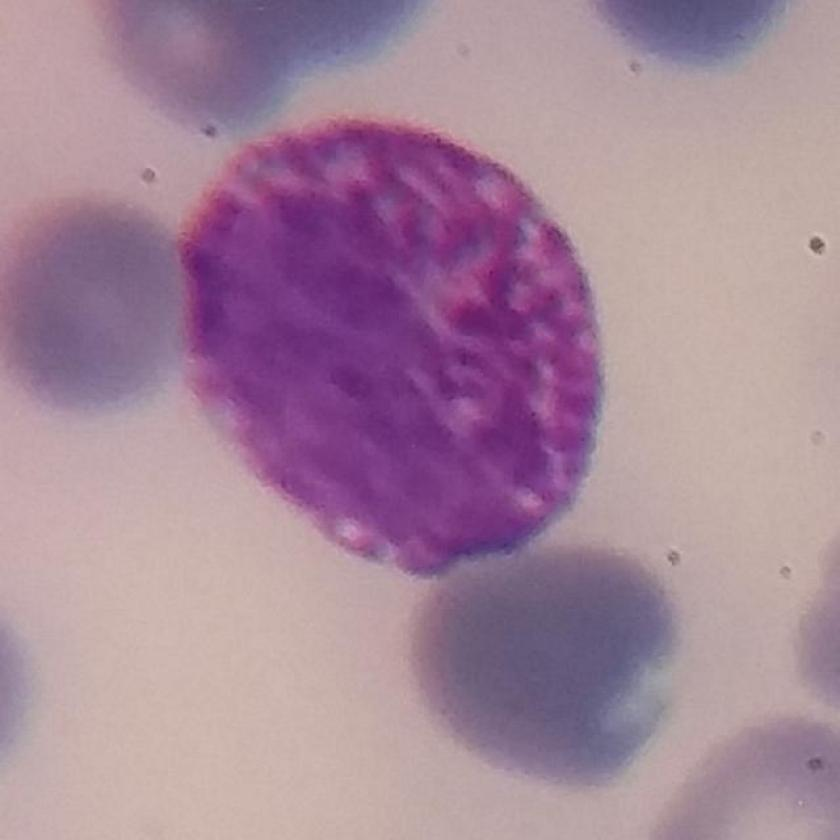basophil: (177, 111, 615, 589)
